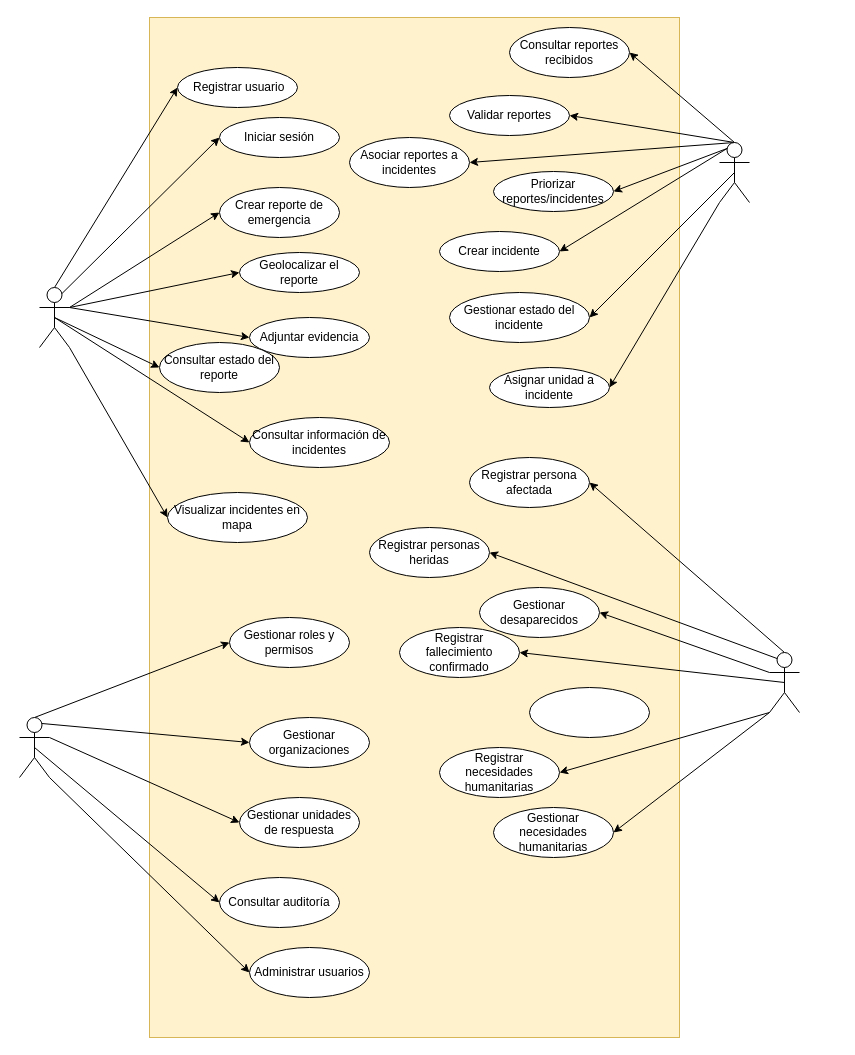
This 855x1055 diagram has some shape labels left out. The centre of each missing label's shape, as x and y in pixels:
"Admin" belongs at pixel 34 747.
"Ciudadano" belongs at pixel 54 317.
"Operador" belongs at pixel 734 172.
"Personal autorizado" belongs at pixel 784 682.
"Registrar daños a infraestructura" belongs at pixel 589 712.
